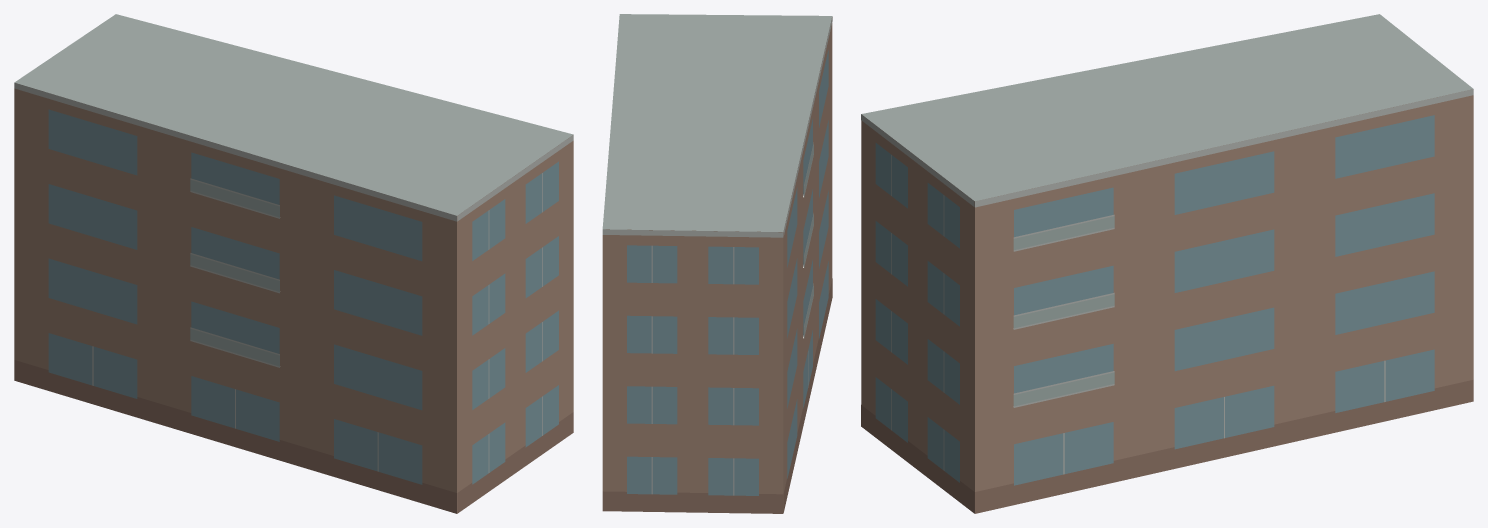
The model's file is survey-upis-32974524.glb.
3 views of the same model, side by side, from view 1: azimuth 30°, elevation 25°; view 2: azimuth 150°, elevation 25°; view 3: azimuth 270°, elevation 25° (orthographic). The views are drawn at different scales.
Visible parts, largest first — view 1: survey-upis-32974524.tmp; view 2: survey-upis-32974524.tmp; view 3: survey-upis-32974524.tmp.
Boxes of the visible parts, x1,y1,x2,y2 form: survey-upis-32974524.tmp: (14,14,573,513); survey-upis-32974524.tmp: (602,14,832,513); survey-upis-32974524.tmp: (861,14,1473,513).
Bounding box in the file's own units: 15.96 × 12.4 × 22.04.
